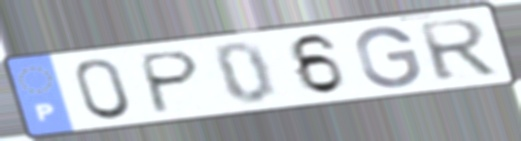0: (212, 39, 279, 107), (73, 57, 134, 122)
6: (288, 32, 347, 98)
G: (353, 24, 425, 90)
P: (138, 48, 205, 117)
R: (413, 16, 501, 84)
